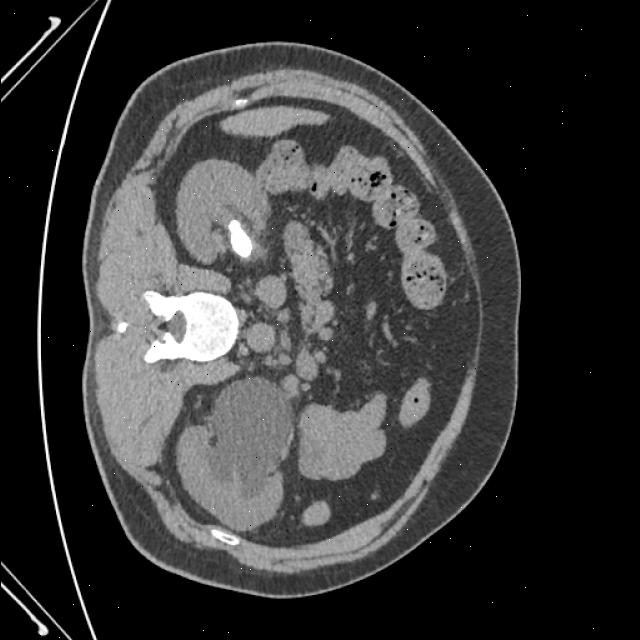kidneystone: (228, 220, 251, 258)
